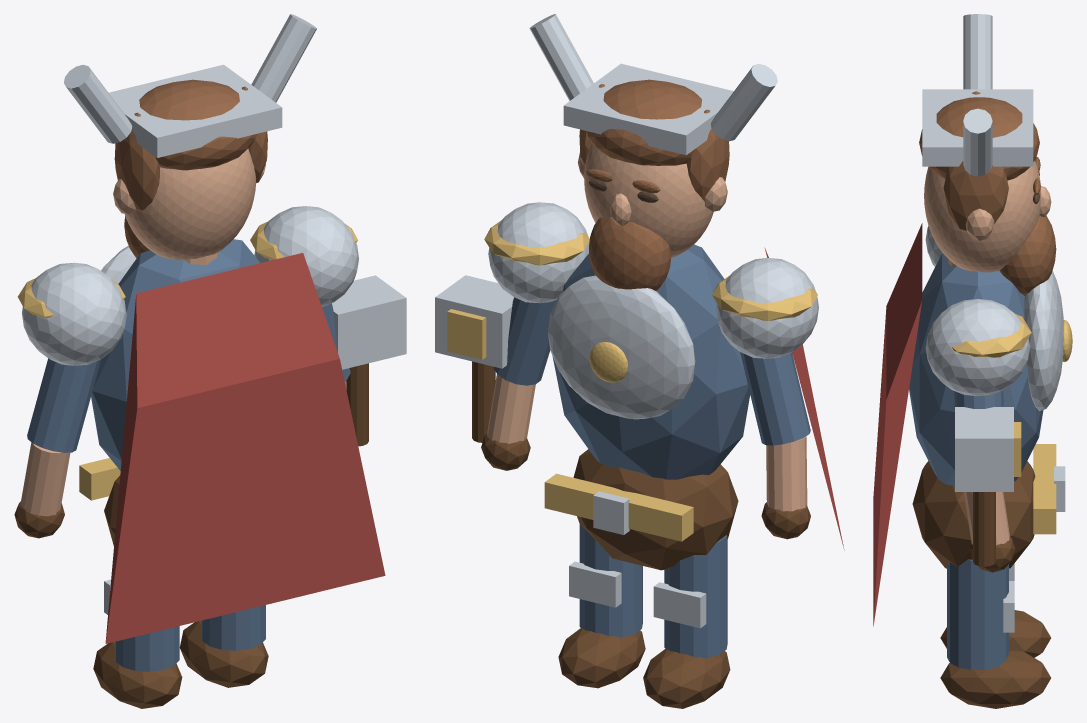
The model's file is thor.glb.
3 views of the same model, side by side, from view 1: azimuth 30°, elevation 25°; view 2: azimuth 150°, elevation 25°; view 3: azimuth 270°, elevation 25° (orthographic). The views are drawn at different scales.
Parts seen in each view (by area): view 1: thor_38_Draped cape, thor_23_Face, thor_12_Shoulder pauldron, thor_0_Armored torso, thor_37_Helmet crown, thor_17_Shoulder pauldron, thor_40_Hammer head, thor_31_Hair, thor_13_Upper arm, thor_10_Boot, thor_7_Boot, thor_14_Forearm (+12 smaller); view 2: thor_0_Armored torso, thor_2_Chest plate, thor_1_Waist and belt, thor_23_Face, thor_37_Helmet crown, thor_12_Shoulder pauldron, thor_17_Shoulder pauldron, thor_31_Hair, thor_6_Greave, thor_34_Short beard, thor_4_Ornate belt, thor_13_Upper arm (+21 smaller); view 3: thor_0_Armored torso, thor_38_Draped cape, thor_17_Shoulder pauldron, thor_23_Face, thor_9_Greave, thor_1_Waist and belt, thor_37_Helmet crown, thor_40_Hammer head, thor_2_Chest plate, thor_10_Boot, thor_33_Side lock, thor_31_Hair (+16 smaller).
Boxes of the visible parts, bbox=[...] form: thor_38_Draped cape: bbox=[105, 253, 385, 643]; thor_23_Face: bbox=[124, 148, 255, 260]; thor_12_Shoulder pauldron: bbox=[22, 262, 126, 365]; thor_0_Armored torso: bbox=[91, 239, 259, 470]; thor_37_Helmet crown: bbox=[109, 64, 282, 157]; thor_17_Shoulder pauldron: bbox=[254, 206, 358, 307]; thor_40_Hammer head: bbox=[332, 275, 406, 369]; thor_31_Hair: bbox=[139, 79, 256, 170]; thor_13_Upper arm: bbox=[27, 358, 101, 452]; thor_10_Boot: bbox=[179, 621, 268, 687]; thor_7_Boot: bbox=[93, 642, 182, 708]; thor_14_Forearm: bbox=[20, 442, 70, 516]; thor_0_Armored torso: bbox=[552, 244, 750, 479]; thor_2_Chest plate: bbox=[548, 275, 695, 419]; thor_1_Waist and belt: bbox=[573, 449, 738, 570]; thor_23_Face: bbox=[584, 144, 713, 257]; thor_37_Helmet crown: bbox=[563, 63, 733, 155]; thor_12_Shoulder pauldron: bbox=[716, 258, 818, 358]; thor_17_Shoulder pauldron: bbox=[488, 202, 589, 303]; thor_31_Hair: bbox=[586, 79, 701, 165]; thor_6_Greave: bbox=[664, 535, 727, 658]; thor_34_Short beard: bbox=[589, 217, 671, 290]; thor_4_Ornate belt: bbox=[544, 473, 693, 541]; thor_13_Upper arm: bbox=[740, 352, 810, 445]; thor_0_Armored torso: bbox=[909, 253, 1043, 486]; thor_38_Draped cape: bbox=[873, 223, 922, 626]; thor_17_Shoulder pauldron: bbox=[925, 299, 1029, 396]; thor_23_Face: bbox=[924, 160, 1040, 272]; thor_9_Greave: bbox=[947, 559, 1008, 669]; thor_1_Waist and belt: bbox=[912, 461, 1035, 568]; thor_37_Helmet crown: bbox=[922, 89, 1033, 166]; thor_40_Hammer head: bbox=[955, 407, 1013, 491]; thor_2_Chest plate: bbox=[1024, 271, 1063, 410]; thor_10_Boot: bbox=[940, 649, 1050, 708]; thor_33_Side lock: bbox=[943, 161, 1008, 231]; thor_31_Hair: bbox=[919, 97, 1039, 180].
Bounding box in the file's own units: 1.24 × 2.1 × 0.61.
